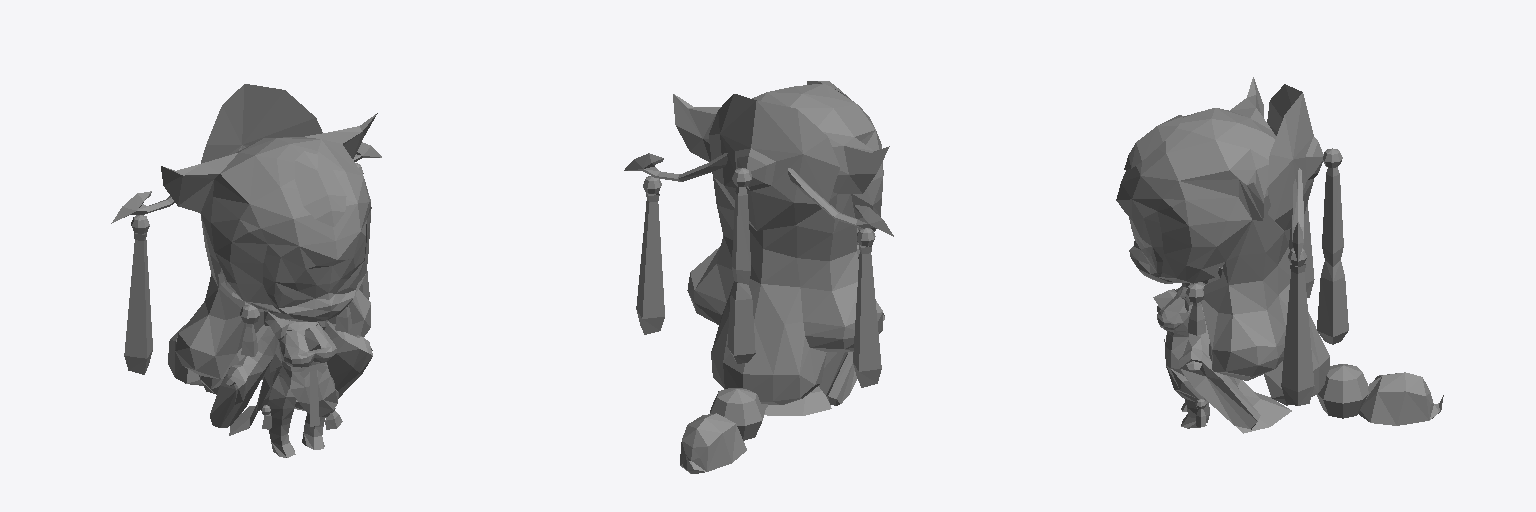
The model's file is daji.obj.
3 renders of one model, left to right at view 1: azimuth 30°, elevation 25°; view 2: azimuth 150°, elevation 25°; view 3: azimuth 270°, elevation 25°, orthographic.
Visible parts, largest first — view 1: daji; view 2: daji; view 3: daji.
Part boxes in pixels (x1,y1,x2,y2): daji: (111, 84, 381, 457); daji: (624, 81, 893, 473); daji: (1116, 77, 1443, 433).
Size of the model in its own units: 64.88 by 74.87 by 67.78.